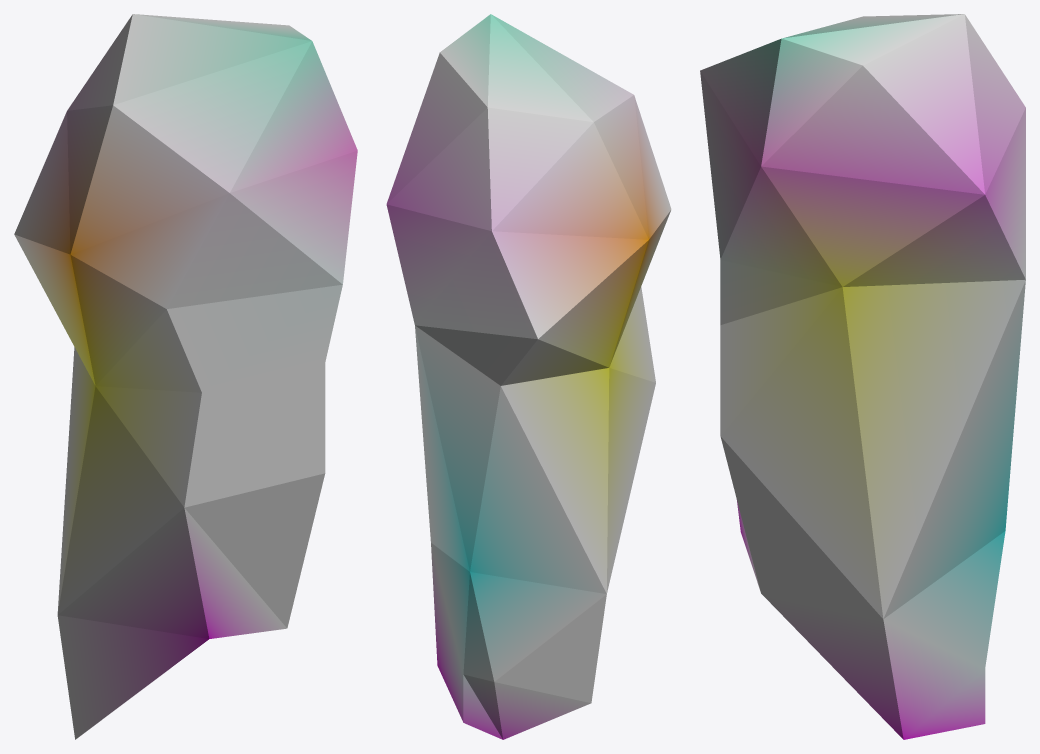
The picture shows the model from 3 angles, left to right: view 1: azimuth 30°, elevation 25°; view 2: azimuth 150°, elevation 25°; view 3: azimuth 270°, elevation 25°; orthographic projection. The views are drawn at different scales.
Visible parts, largest first — view 1: model_1102; view 2: model_1102; view 3: model_1102.
Boxes of the visible parts, x1,y1,x2,y2 form: model_1102: (14,14,357,739); model_1102: (386,14,671,739); model_1102: (700,14,1025,739).
Bounding box in the file's own units: 14 × 40 × 16.
